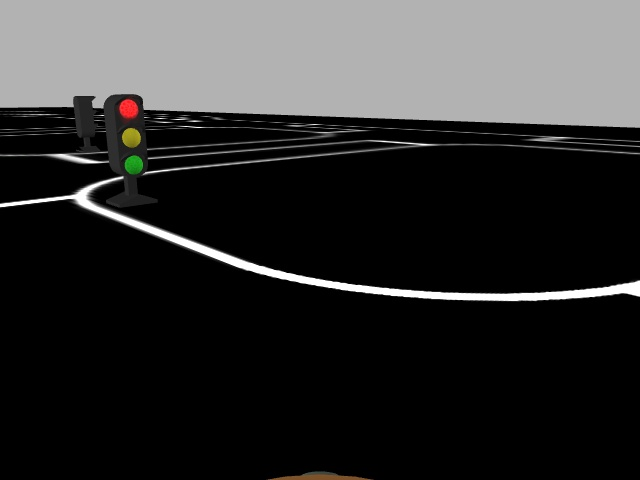red_light: (106, 93, 150, 177)
